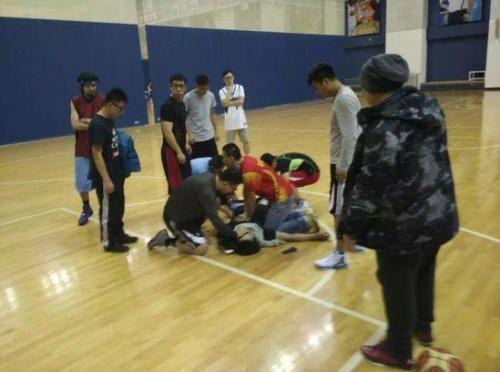Fall-Detected: (216, 190, 332, 261)
